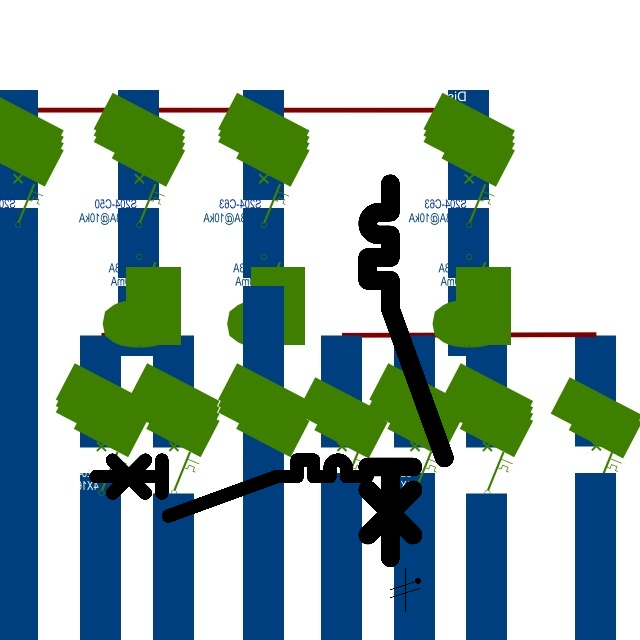interruptor_termomagnetico: (358, 174, 454, 567), (89, 453, 374, 523)
